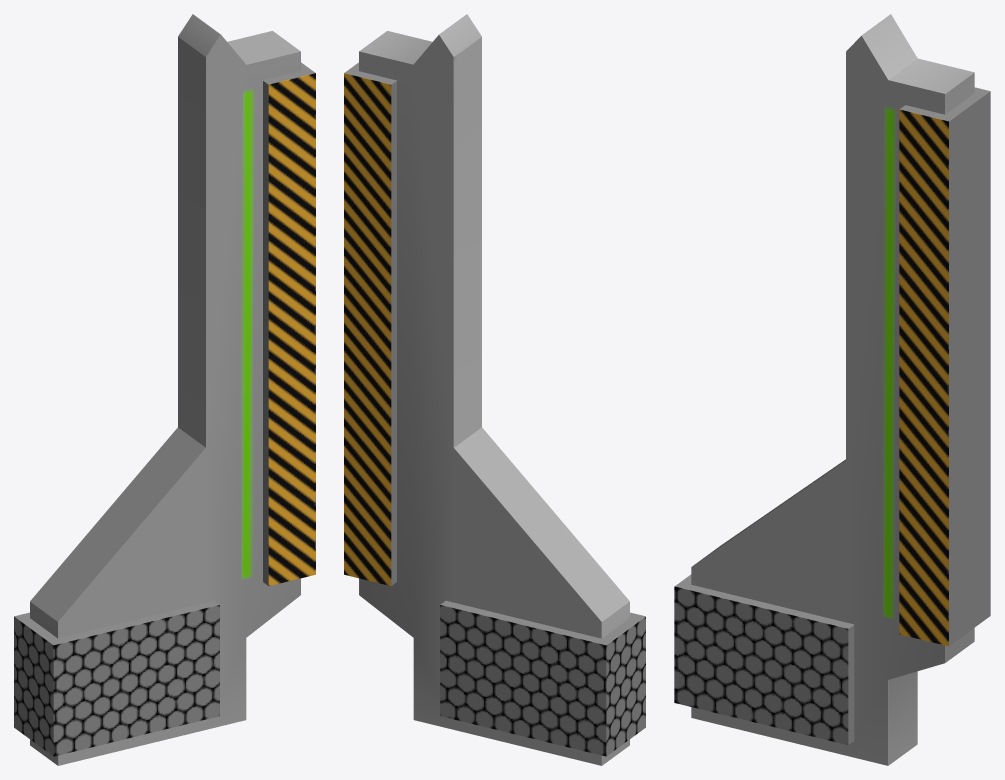
File: SM_Construction_01.fbx
3 views of the same model, side by side, from view 1: azimuth 30°, elevation 25°; view 2: azimuth 150°, elevation 25°; view 3: azimuth 330°, elevation 25° (orthographic). The views are drawn at different scales.
Parts seen in each view (by area): view 1: SM_Construction_01; view 2: SM_Construction_01; view 3: SM_Construction_01.
Boxes of the visible parts, <box> form: SM_Construction_01: <box>14,14,315,765</box>; SM_Construction_01: <box>344,14,645,765</box>; SM_Construction_01: <box>674,14,990,765</box>.
Bounding box in the file's own units: 130 × 34.03 × 327.
Materials: 1 (1 with a texture image).
